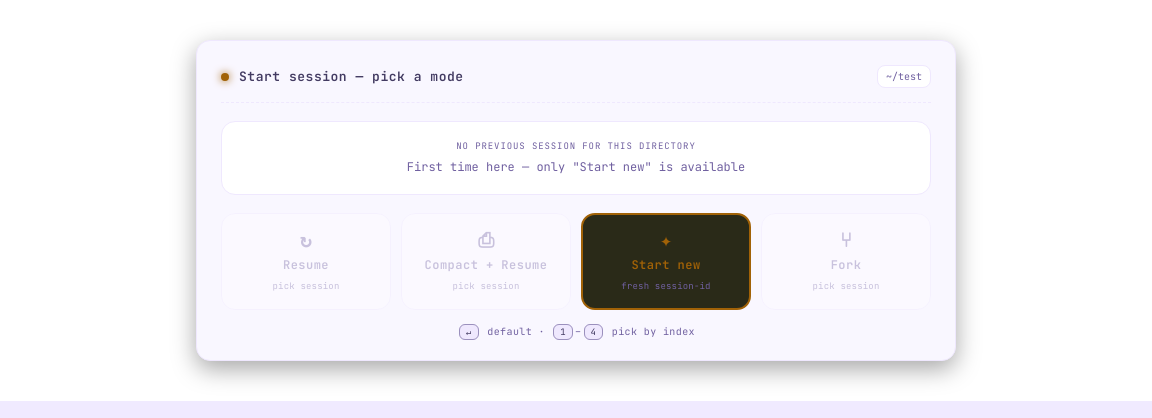
post-resume ctx % wiring › historical assistant.usage seeds ctx % bar (no live result needed)
The image size is (1152, 418).
Check: the text "Start new" is shown, box [631, 256, 700, 274]
Click the button "✦ Start new fresh session-id" at coordinates (666, 261), box [581, 212, 751, 310]
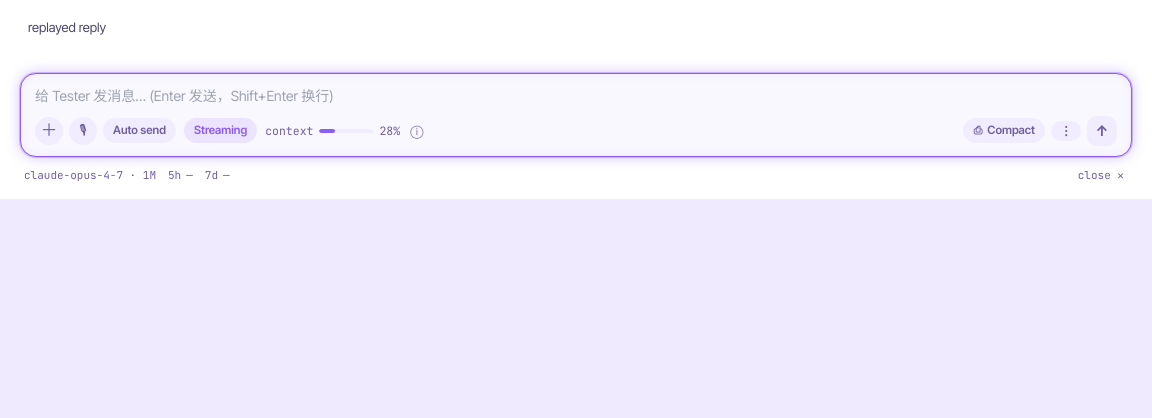
Check: the text "context —" is shown, box [265, 122, 428, 139]
Check: the text "28%" is shown, box [380, 122, 400, 139]
